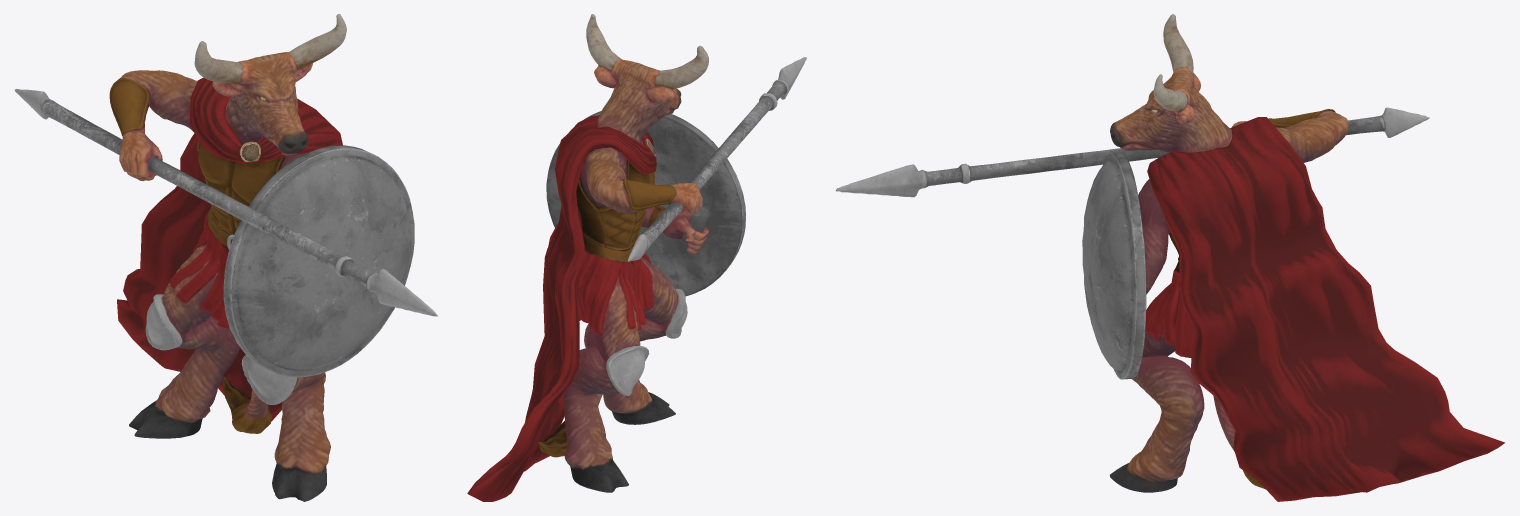
File: MZ4250 - Minotaur Hoplite.glb
3 renders of one model, left to right at view 1: azimuth 30°, elevation 25°; view 2: azimuth 150°, elevation 25°; view 3: azimuth 270°, elevation 25°, orthographic. The views are drawn at different scales.
Parts seen in each view (by area): view 1: Cylinder.001; view 2: Cylinder.001; view 3: Cylinder.001.
Boxes of the visible parts, x1,y1,x2,y2 form: Cylinder.001: [14, 14, 437, 501]; Cylinder.001: [467, 14, 806, 501]; Cylinder.001: [836, 14, 1504, 501].
Size of the model in its own units: 1.3 by 2.32 by 3.25.
Materials: 3 (3 with a texture image).
